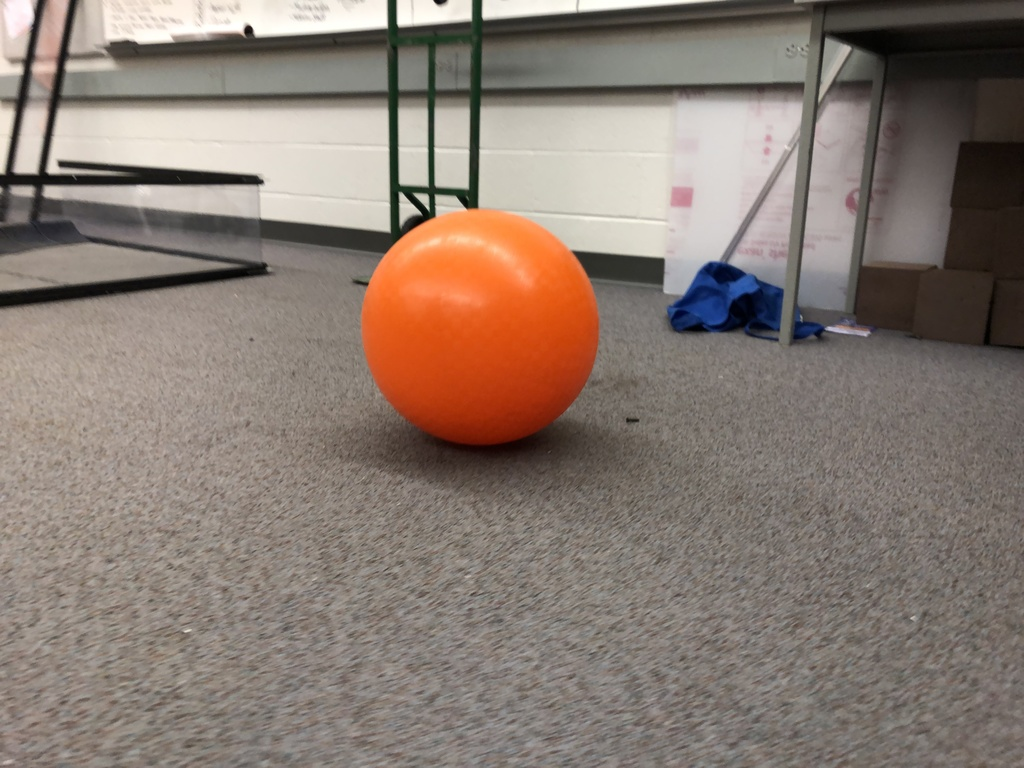cargo: (358, 205, 613, 453)
